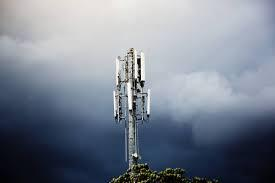Microwave Antenna: (133, 152, 140, 160)
antenna: (125, 79, 133, 110), (140, 49, 147, 84), (145, 83, 152, 117), (115, 55, 120, 84), (113, 89, 118, 117)
